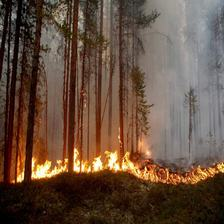fire: (5, 139, 223, 186)
